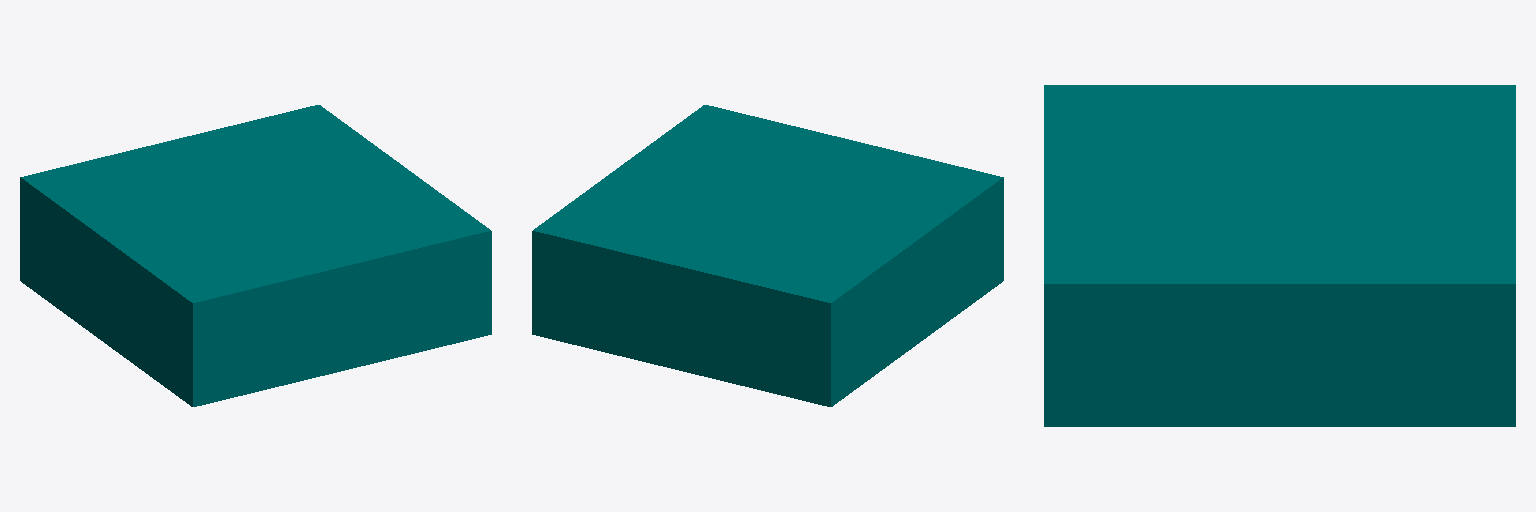
URDF robot description (arm):
<?xml version="1.0" encoding="utf-8" ?>
<robot name="arm">
  <link name="base_link">
    <inertial>
      <origin xyz="0 0 0.05" rpy="0 0 0" />
      <mass value="1" />
      <inertia ixx="0.01" ixy="0" ixz="0" iyy="0.01" iyz="0" izz="0.001" />
    </inertial>
    <visual>
      <origin xyz="0 0 0.05" rpy="0 0 0" />
      <geometry>
        <box size="0.3 0.3 0.1" />
      </geometry>
      <material name="Cyan1">
        <color rgba="0 0.5 0.5 1" />
      </material>
    </visual>
    <collision>
      <origin xyz="0 0 0.05" rpy="0 0 0" />
      <geometry>
        <box size="0.3 0.3 0.1" />
      </geometry>
    </collision>
  </link>
</robot>

--- What the picture shows (computed from the rendered views, not written in the file) ---
3 views of the same robot in one strip: view 1: azimuth 30°, elevation 25°; view 2: azimuth 150°, elevation 25°; view 3: azimuth 270°, elevation 25° (orthographic).
Model arm with 1 links and 0 joints (none), rooted at base_link, posed all joints at 0.
Visible links, largest first — view 1: base_link; view 2: base_link; view 3: base_link.
Link boxes in pixels (<box>): base_link: <box>20,105,491,406</box>; base_link: <box>532,105,1003,406</box>; base_link: <box>1044,85,1515,426</box>.
Size in the robot's own frame: 0.3 by 0.3 by 0.1 metres.
Geometry: primitives only (box / cylinder / sphere), no mesh files.